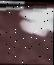dent: (0, 3, 54, 64)
